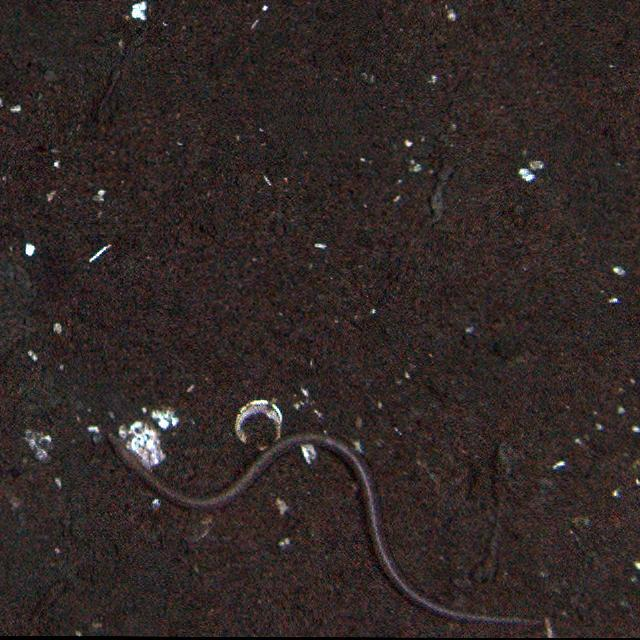eel: (108, 432, 544, 630)
